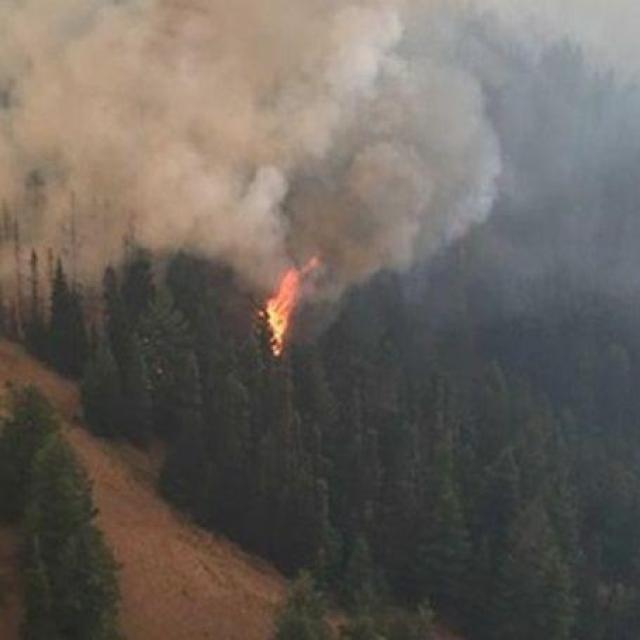Fire: (249, 298, 300, 362), (275, 268, 303, 294)
Smoke: (0, 3, 640, 187), (0, 97, 287, 261), (329, 107, 527, 282)
